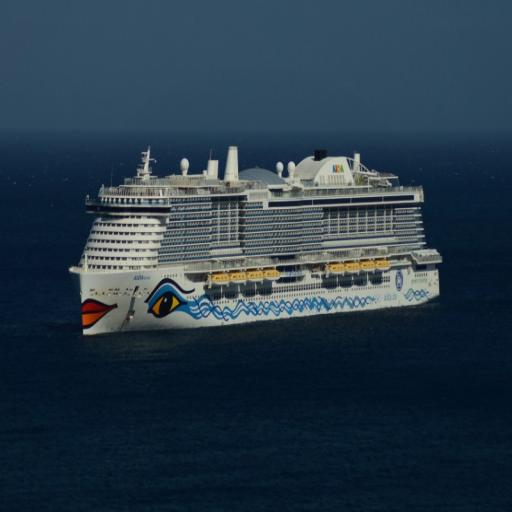cruises: (65, 136, 446, 346)
